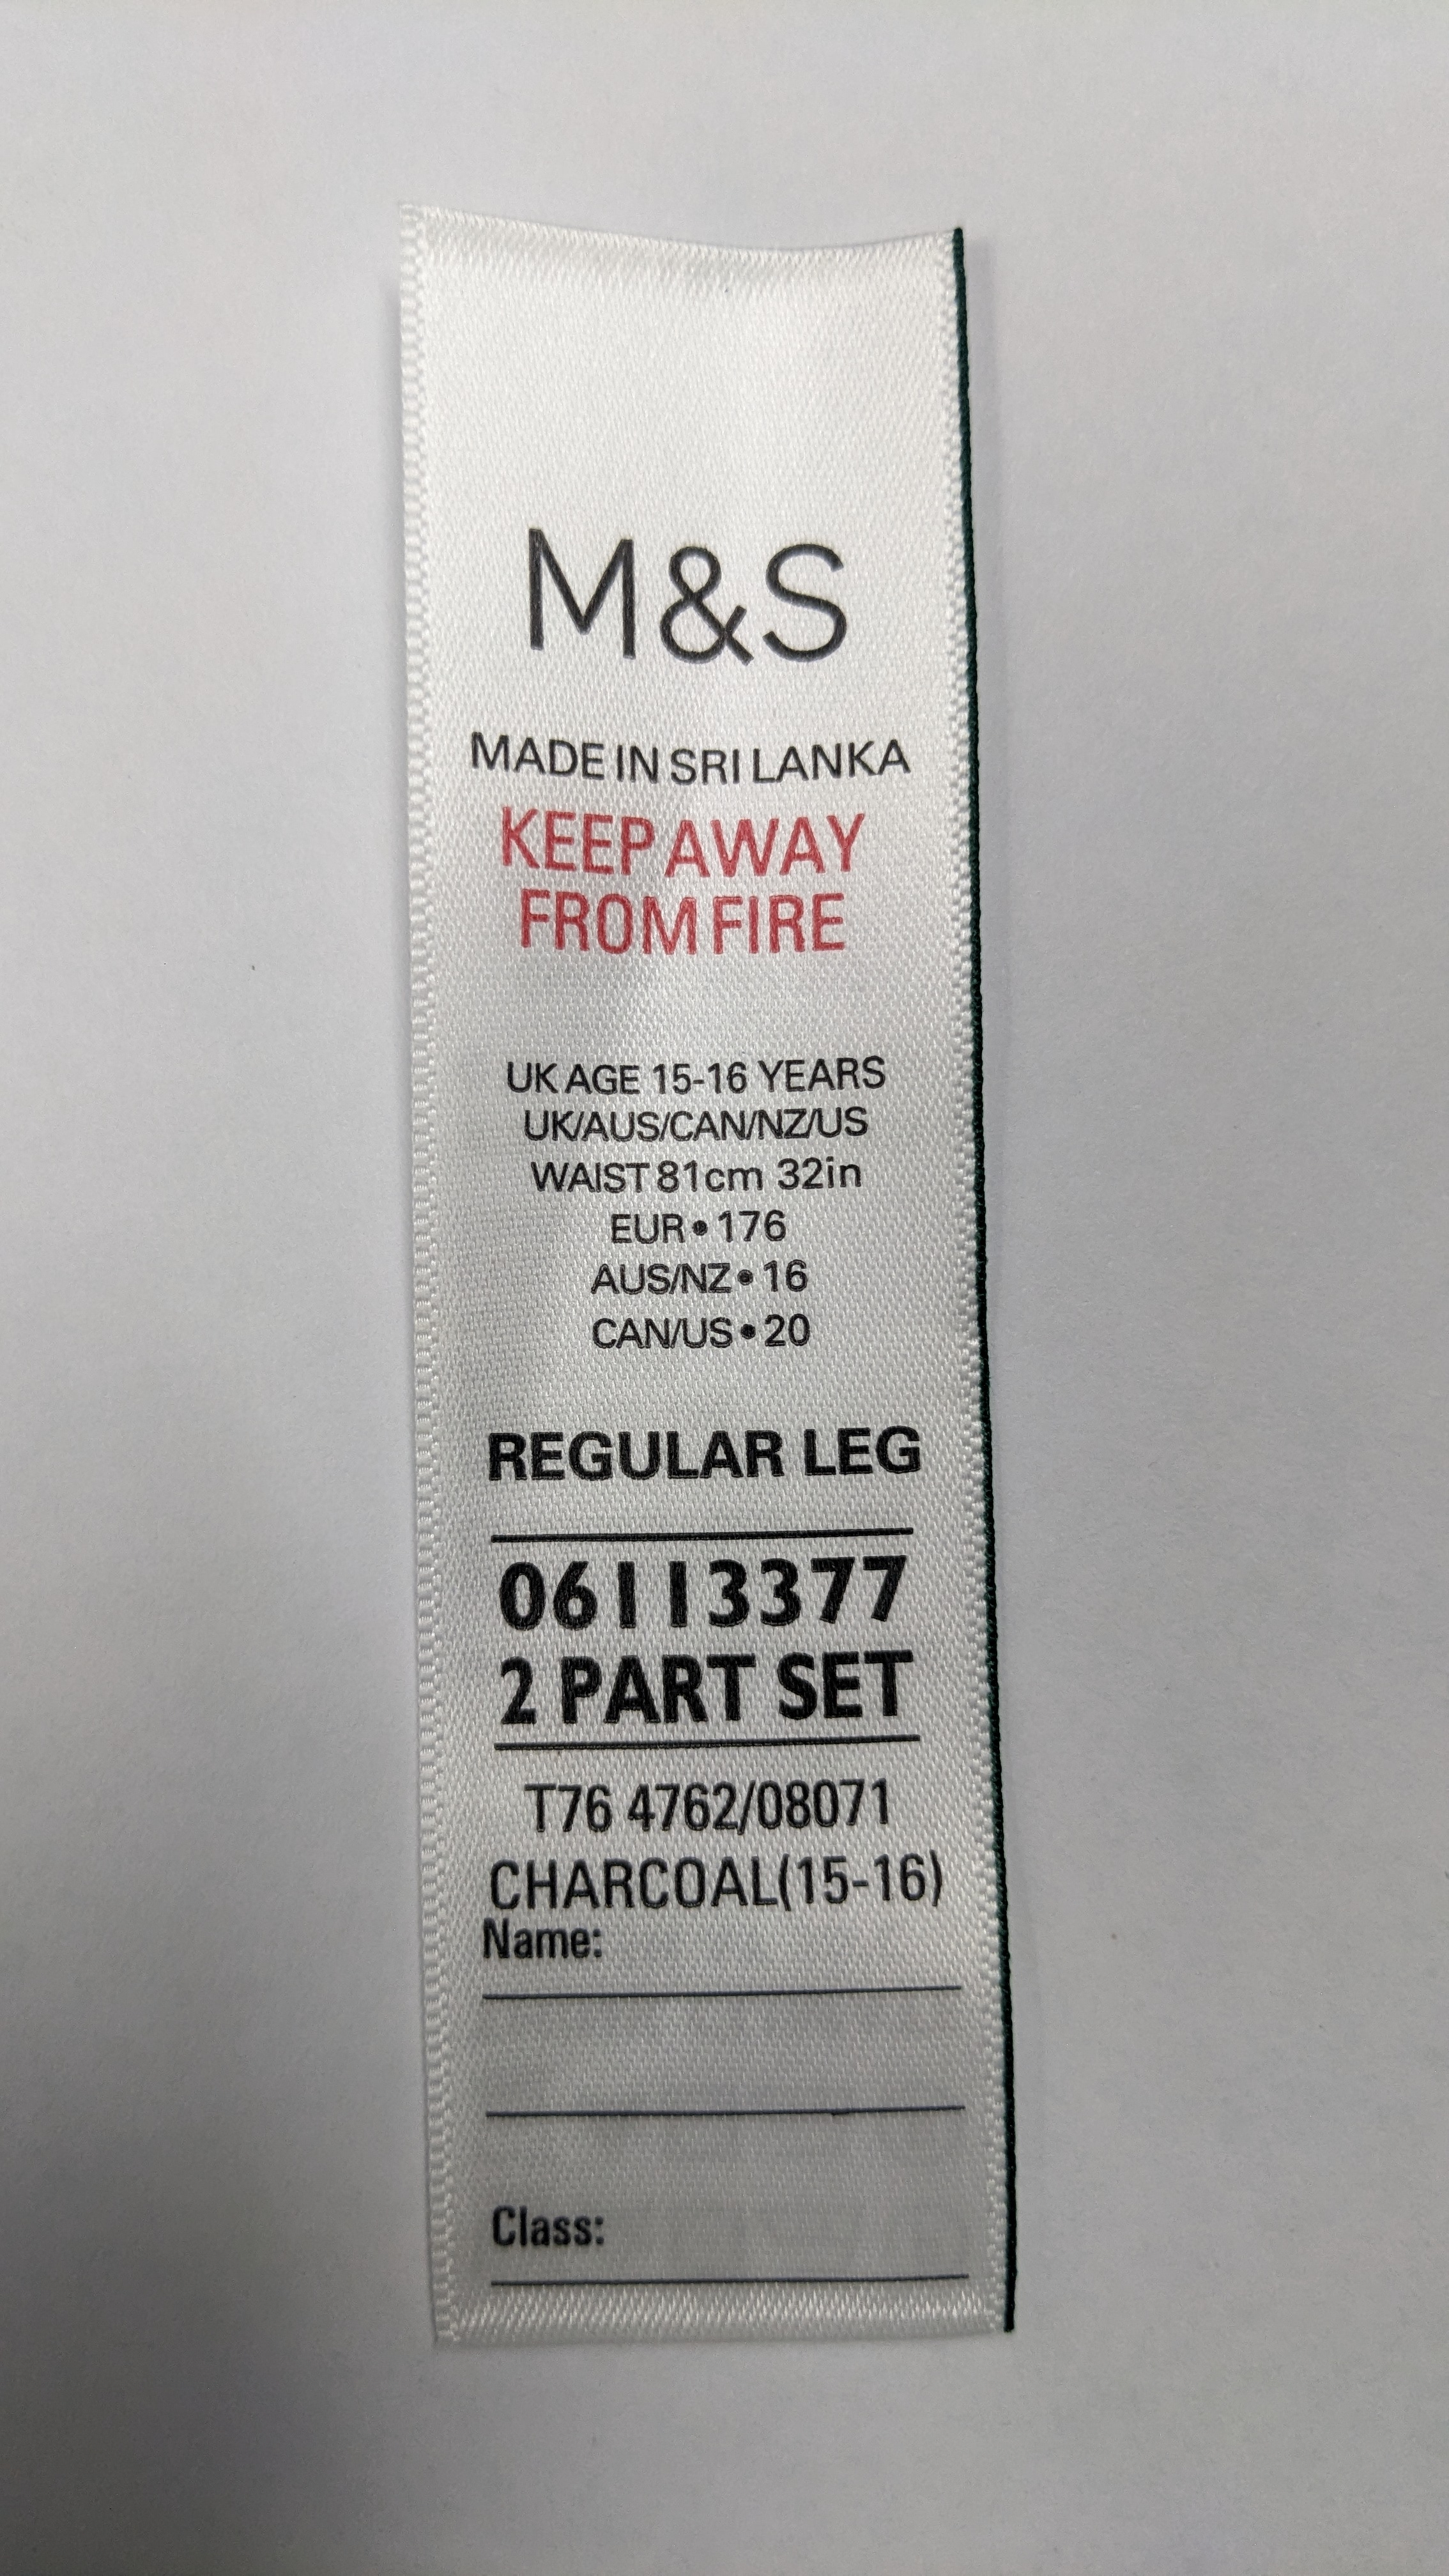Good_label: (354, 172, 1042, 2371)
